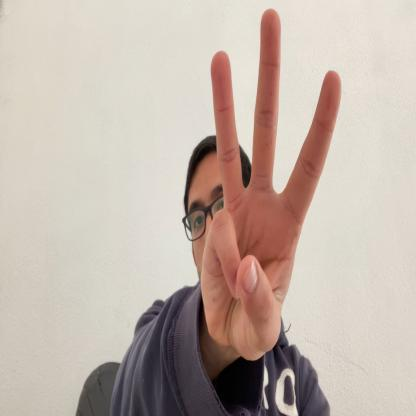W: (203, 8, 342, 359)
